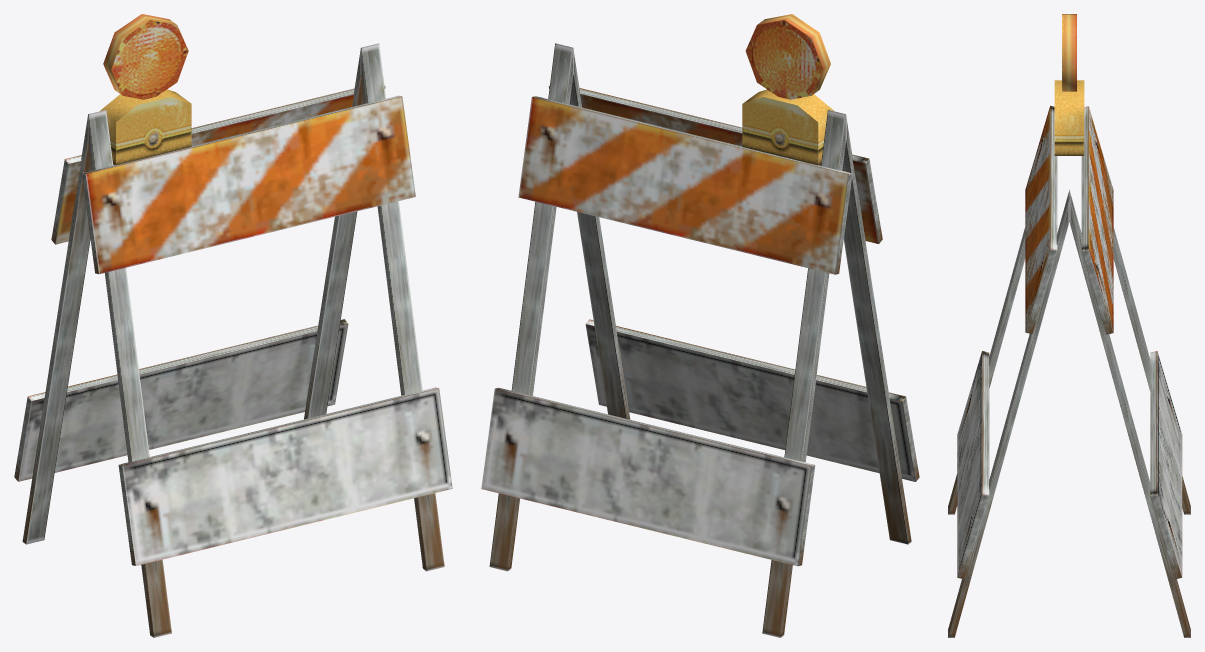
Rendered from traffic_barrier_folding.fbx.
3 views of the same model, side by side, from view 1: azimuth 30°, elevation 25°; view 2: azimuth 150°, elevation 25°; view 3: azimuth 270°, elevation 25° (orthographic). The views are drawn at different scales.
Parts seen in each view (by area): view 1: mesh_0; view 2: mesh_0; view 3: mesh_0.
Part boxes in pixels (x1=…): mesh_0: x1=14, y1=14, x2=452, y2=637; mesh_0: x1=481, y1=14, x2=919, y2=637; mesh_0: x1=948, y1=14, x2=1190, y2=637.
Bounding box in the file's own units: 69.7 × 117 × 50.
1 material, 1 textured.
